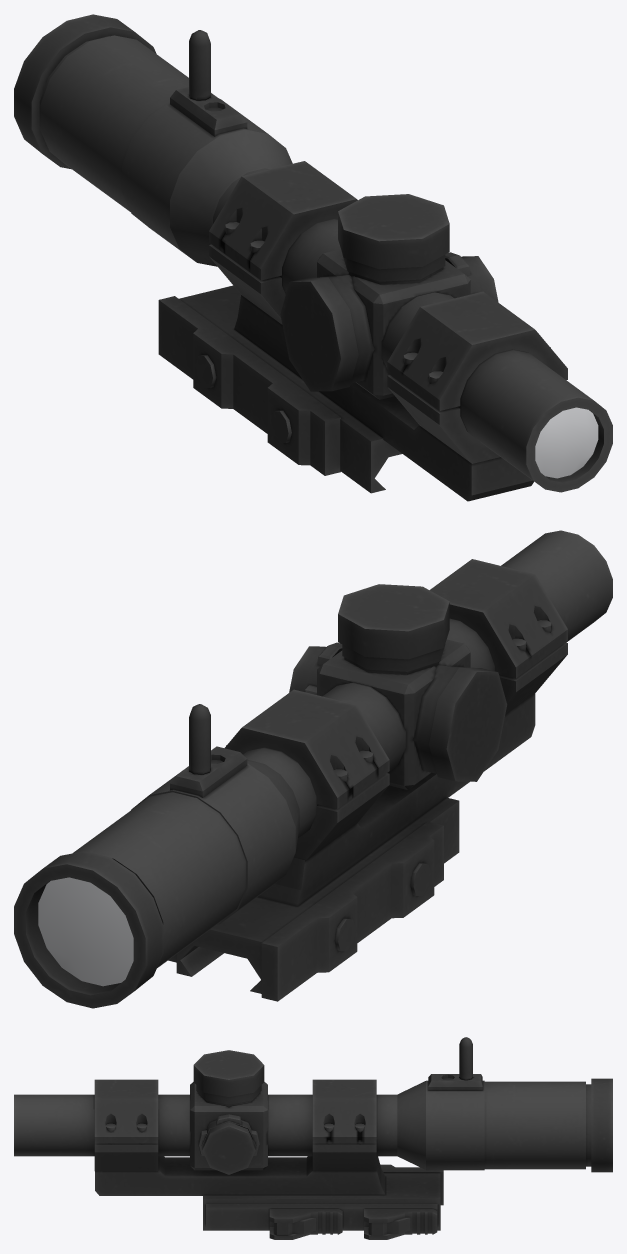
The model's file is scope_6x.fbx.
3 renders of one model, top to bottom at view 1: azimuth 30°, elevation 25°; view 2: azimuth 150°, elevation 25°; view 3: azimuth 270°, elevation 25°, orthographic. The views are drawn at different scales.
Visible parts, largest first — view 1: EOTECH_Vudu_1-6x24_FFP_Scope_Mount_1, EOTECH_Vudu_1-6x24_FFP_Scope_Mount_1.001; view 2: EOTECH_Vudu_1-6x24_FFP_Scope_Mount_1, EOTECH_Vudu_1-6x24_FFP_Scope_Mount_1.001; view 3: EOTECH_Vudu_1-6x24_FFP_Scope_Mount_1.
Part boxes in pixels (bbox=[...]): EOTECH_Vudu_1-6x24_FFP_Scope_Mount_1: bbox=[14, 14, 612, 501]; EOTECH_Vudu_1-6x24_FFP_Scope_Mount_1.001: bbox=[535, 407, 598, 478]; EOTECH_Vudu_1-6x24_FFP_Scope_Mount_1: bbox=[14, 530, 612, 1008]; EOTECH_Vudu_1-6x24_FFP_Scope_Mount_1.001: bbox=[38, 877, 133, 986]; EOTECH_Vudu_1-6x24_FFP_Scope_Mount_1: bbox=[14, 1037, 612, 1239].
Size of the model in its own units: 19.04 by 30.67 by 92.2.
